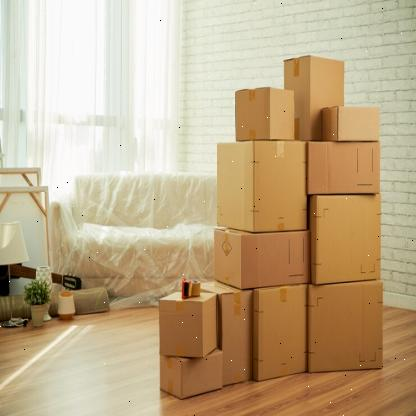box: (308, 278, 384, 375), (315, 193, 382, 286), (240, 229, 312, 290), (307, 140, 381, 196), (216, 140, 255, 234), (158, 296, 204, 359), (283, 54, 312, 141), (234, 87, 270, 142), (338, 106, 380, 142)
